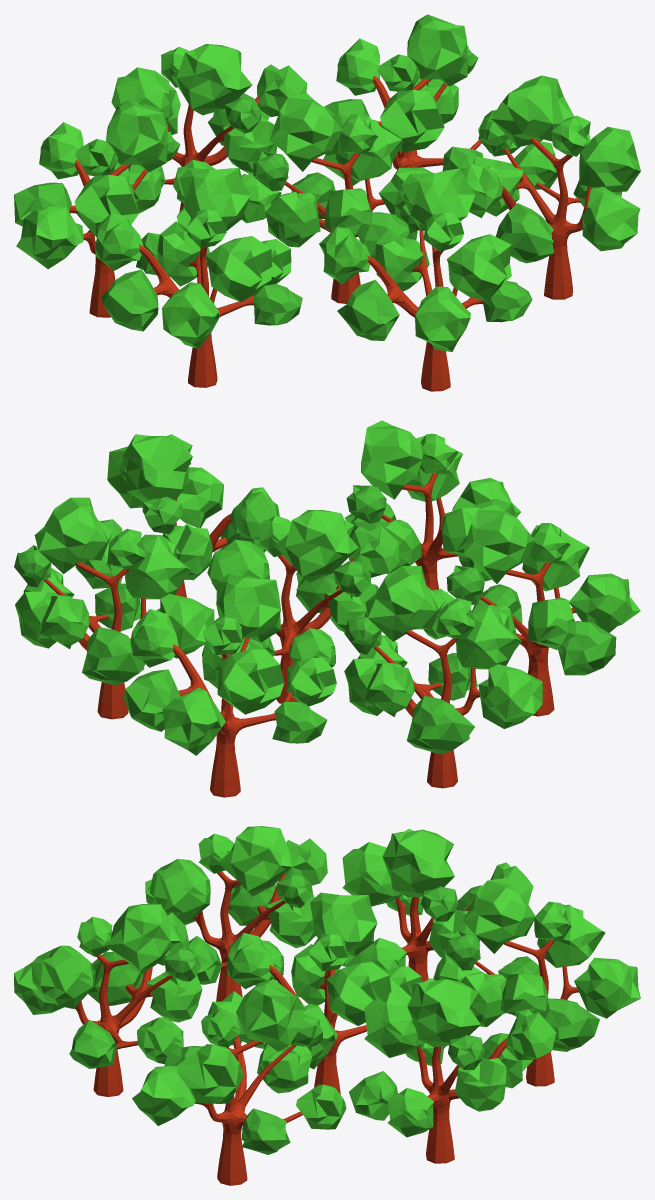
The model's file is 7_tree.fbx.
3 views of the same model, one above another, from view 1: azimuth 30°, elevation 25°; view 2: azimuth 150°, elevation 25°; view 3: azimuth 270°, elevation 25° (orthographic). The views are drawn at different scales.
Visible parts, largest first — view 1: tree_leaf1.004, tree_leaf1.002, tree_leaf1.006, tree_leaf1.005, tree_leaf2.006, tree_leaf2.002, tree_leaf2.005, tree_leaf2.001, tree_leaf1.001, tree_leaf1.003, tree_leaf1.007, tree_leaf2.007 (+16 smaller); view 2: tree_leaf1.004, tree_leaf1.006, tree_leaf1.003, tree_leaf1.007, tree_leaf1.002, tree_leaf2.003, tree_leaf1.005, tree_leaf2.007, tree_leaf2.004, tree_leaf1.001, tree_leaf2.001, tree_leaf3.004 (+16 smaller); view 3: tree_leaf1.003, tree_leaf2.002, tree_leaf2.005, tree_leaf2.007, tree_leaf1.002, tree_leaf2.001, tree_leaf1.007, tree_leaf2.006, tree_leaf1.001, tree_leaf2.003, tree_leaf1.005, tree_leaf1.006 (+15 smaller).
Boxes of the visible parts, x1=… form: tree_leaf1.004: x1=16, y1=100, x2=168, y2=269; tree_leaf1.002: x1=463, y1=75, x2=640, y2=251; tree_leaf1.006: x1=95, y1=168, x2=250, y2=348; tree_leaf1.005: x1=319, y1=168, x2=474, y2=351; tree_leaf2.006: x1=157, y1=209, x2=291, y2=302; tree_leaf2.002: x1=473, y1=115, x2=640, y2=216; tree_leaf2.005: x1=375, y1=212, x2=511, y2=301; tree_leaf2.001: x1=241, y1=114, x2=403, y2=247; tree_leaf1.001: x1=270, y1=93, x2=433, y2=236; tree_leaf1.003: x1=167, y1=44, x2=307, y2=135; tree_leaf1.007: x1=323, y1=14, x2=468, y2=185; tree_leaf2.007: x1=377, y1=54, x2=520, y2=156; tree_leaf1.004: x1=364, y1=566, x2=542, y2=728; tree_leaf1.006: x1=464, y1=504, x2=640, y2=649; tree_leaf1.003: x1=130, y1=573, x2=280, y2=755; tree_leaf1.007: x1=34, y1=497, x2=214, y2=658; tree_leaf1.002: x1=122, y1=434, x2=279, y2=539; tree_leaf2.003: x1=202, y1=617, x2=336, y2=714; tree_leaf1.005: x1=361, y1=420, x2=520, y2=558; tree_leaf2.007: x1=15, y1=528, x2=191, y2=648; tree_leaf2.004: x1=344, y1=598, x2=521, y2=715; tree_leaf1.001: x1=210, y1=510, x2=399, y2=590; tree_leaf2.001: x1=207, y1=515, x2=378, y2=667; tree_leaf3.004: x1=344, y1=612, x2=477, y2=754; tree_leaf1.003: x1=463, y1=877, x2=640, y2=1018; tree_leaf2.002: x1=176, y1=1009, x2=346, y2=1129; tree_leaf2.005: x1=31, y1=916, x2=202, y2=1064; tree_leaf2.007: x1=364, y1=978, x2=506, y2=1137; tree_leaf1.002: x1=132, y1=979, x2=306, y2=1125; tree_leaf2.001: x1=291, y1=934, x2=421, y2=1025; tree_leaf1.007: x1=405, y1=978, x2=556, y2=1065; tree_leaf2.006: x1=149, y1=833, x2=315, y2=985; tree_leaf1.001: x1=226, y1=892, x2=377, y2=1069; tree_leaf2.003: x1=433, y1=901, x2=605, y2=1027; tree_leaf1.005: x1=14, y1=904, x2=189, y2=1014; tree_leaf1.006: x1=145, y1=826, x2=327, y2=925.
Size of the model in its own units: 16.85 by 6.01 by 17.71.
